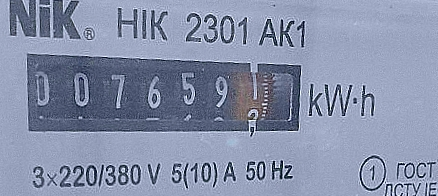0: (67, 67, 93, 109), (28, 66, 53, 109)
1: (244, 70, 263, 104)
5: (176, 68, 198, 108)
6: (141, 71, 164, 111)
7: (106, 70, 127, 111)
9: (210, 73, 229, 111)
screen: (14, 29, 313, 164)
